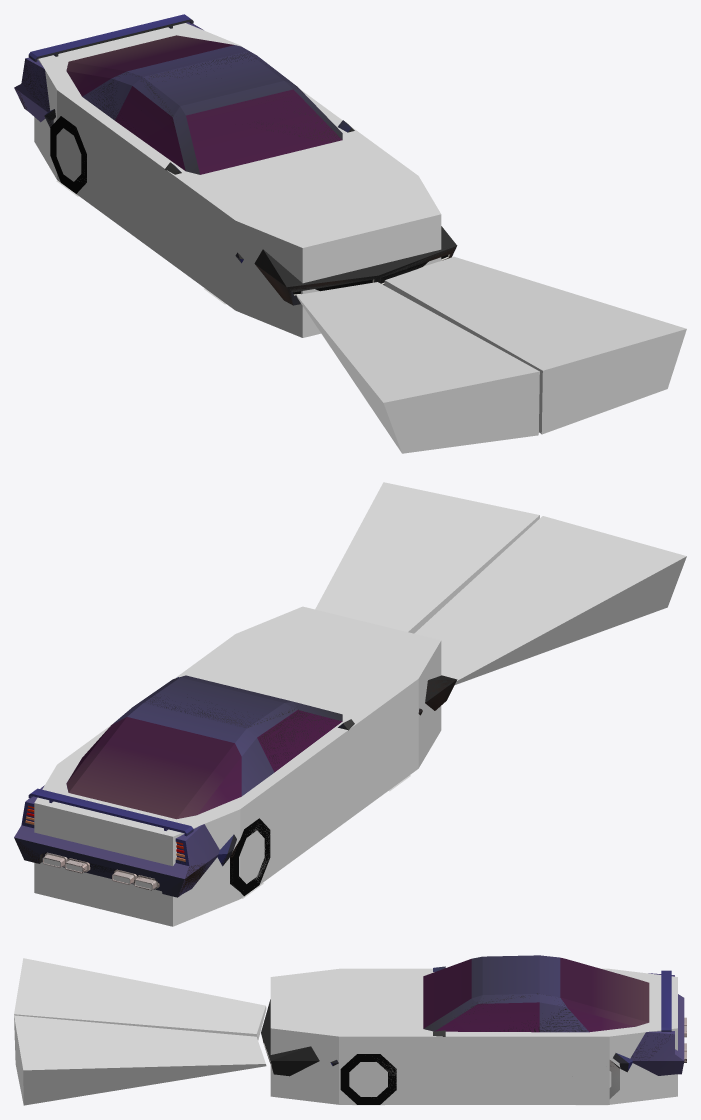
Rendered from Cyber.fbx.
3 renders of one model, top to bottom at view 1: azimuth 30°, elevation 25°; view 2: azimuth 150°, elevation 25°; view 3: azimuth 270°, elevation 25°, orthographic. The views are drawn at different scales.
Visible parts, largest first — view 1: cyber_gr, cyber_cldr, cyber, cyber_dead, cyber_lckd; view 2: cyber_cldr, cyber_gr, cyber, cyber_dead, cyber_lckd; view 3: cyber_cldr, cyber_gr, cyber, cyber_lckd, cyber_dead, cyber_rearwheels.
Part boxes in pixels (x1=…): cyber_gr: x1=296, y1=256, x2=686, y2=453; cyber_cldr: x1=34, y1=23, x2=441, y2=337; cyber: x1=14, y1=14, x2=456, y2=305; cyber_dead: x1=15, y1=29, x2=456, y2=304; cyber_lckd: x1=50, y1=116, x2=86, y2=193; cyber_cldr: x1=34, y1=606, x2=441, y2=926; cyber_gr: x1=315, y1=482, x2=686, y2=684; cyber: x1=14, y1=675, x2=456, y2=897; cyber_dead: x1=15, y1=679, x2=456, y2=896; cyber_lckd: x1=230, y1=818, x2=270, y2=896; cyber_cldr: x1=270, y1=968, x2=677, y2=1104; cyber_gr: x1=14, y1=958, x2=266, y2=1105; cyber: x1=261, y1=955, x2=686, y2=1076; cyber_lckd: x1=340, y1=1054, x2=619, y2=1104; cyber_dead: x1=262, y1=993, x2=686, y2=1071; cyber_rearwheels: x1=609, y1=1060, x2=619, y2=1098.
Bounding box in the file's own units: 5.45 × 2.18 × 13.8.
